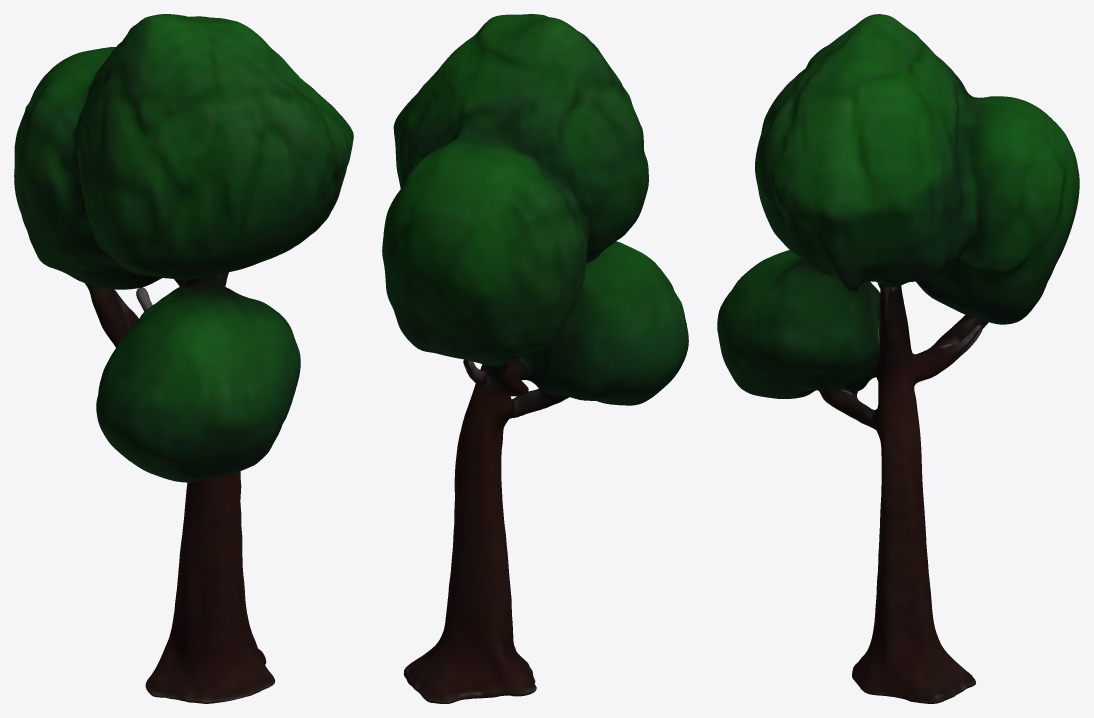
The model's file is tree.glb.
The picture shows the model from 3 angles, left to right: view 1: azimuth 30°, elevation 25°; view 2: azimuth 150°, elevation 25°; view 3: azimuth 270°, elevation 25°; orthographic projection. The views are drawn at different scales.
Visible parts, largest first — view 1: world; view 2: world; view 3: world.
Boxes of the visible parts, box(x1,y1,x2,y2) form: world: box(14, 14, 353, 703); world: box(382, 14, 688, 703); world: box(717, 14, 1079, 703).
Bounding box in the file's own units: 0.2176 × 0.5658 × 0.293.
Materials: 1 (1 with a texture image).
